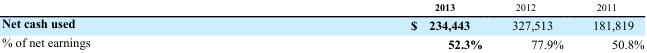table: (0, 1, 643, 50)
table column: (0, 1, 249, 50), (249, 1, 496, 50), (496, 1, 577, 50), (577, 1, 643, 50)
table column header: (0, 1, 643, 14)
table row: (0, 14, 643, 33), (0, 33, 643, 50), (0, 1, 643, 14)
